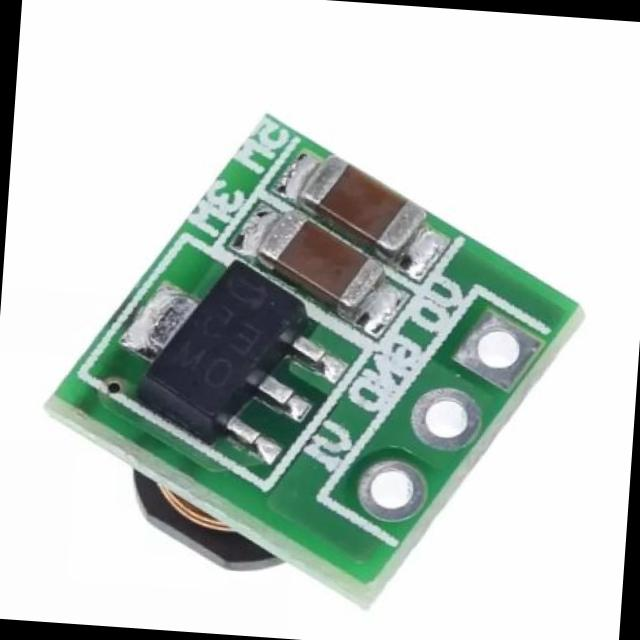IC: (92, 243, 345, 479)
capacitor: (280, 142, 445, 267), (239, 201, 395, 332)
